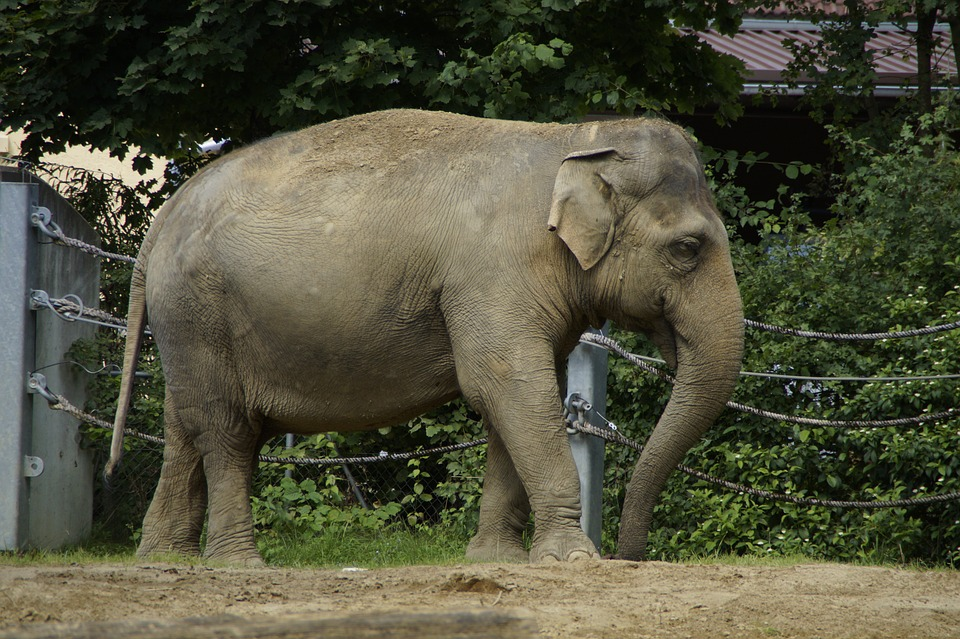Indian Elephant: (86, 100, 758, 577)
